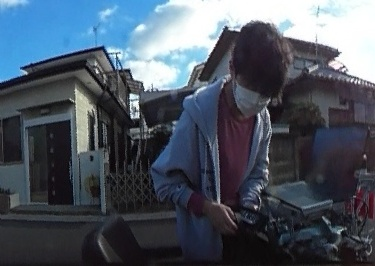person: (152, 22, 295, 254)
